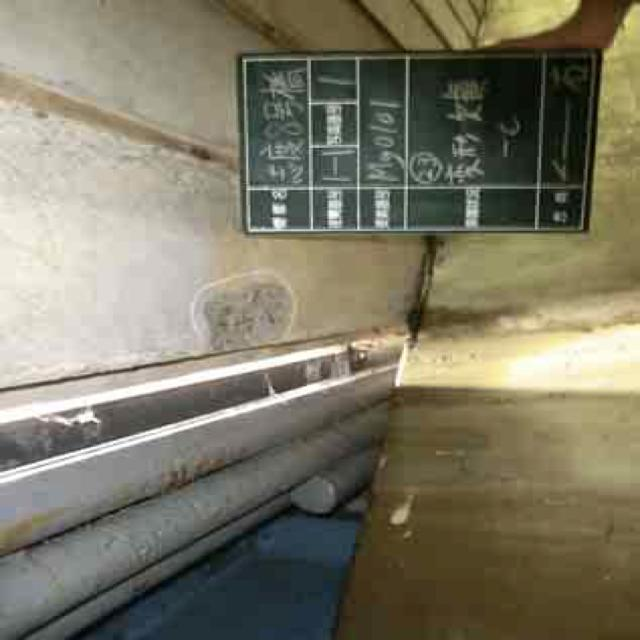spalling: (197, 280, 304, 347)
